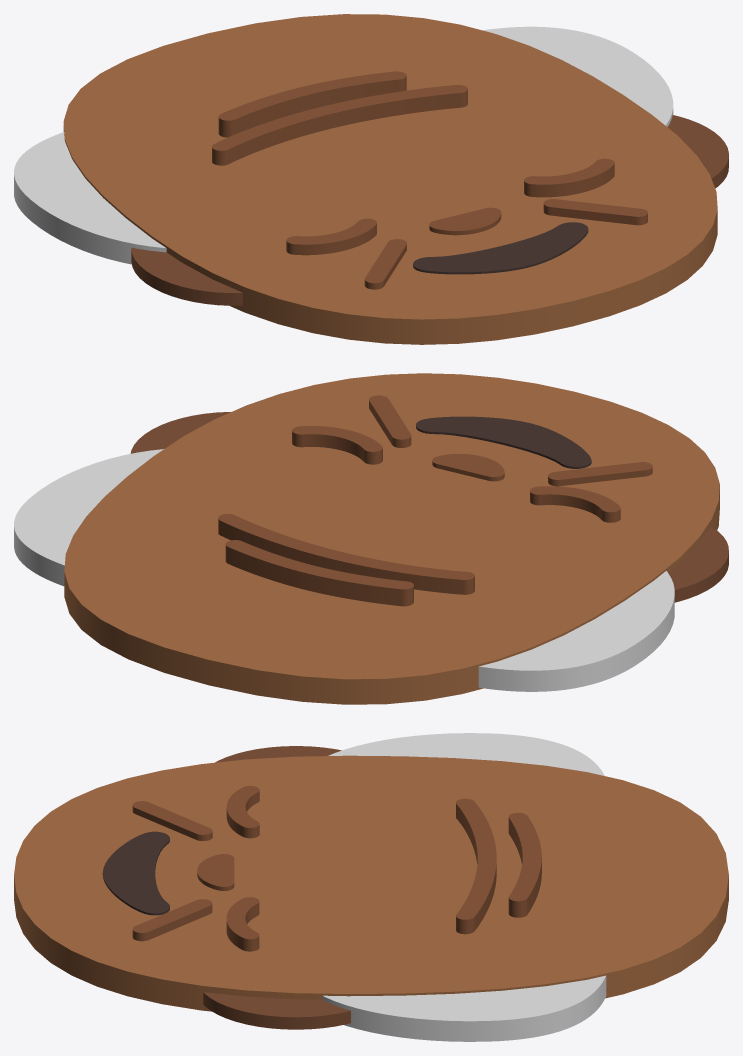
File: emoji_u1f474_1f3fe.glb
3 views of the same model, one above another, from view 1: azimuth 30°, elevation 25°; view 2: azimuth 150°, elevation 25°; view 3: azimuth 270°, elevation 25° (orthographic). The views are drawn at different scales.
Visible parts, largest first — view 1: emoji_u1f474_1f3fe; view 2: emoji_u1f474_1f3fe; view 3: emoji_u1f474_1f3fe.
Boxes of the visible parts, x1,y1,x2,y2 form: emoji_u1f474_1f3fe: (14, 14, 728, 344); emoji_u1f474_1f3fe: (14, 373, 728, 704); emoji_u1f474_1f3fe: (14, 733, 728, 1041).
Size of the model in its own units: 0.0299 by 0.0028 by 0.0314.
